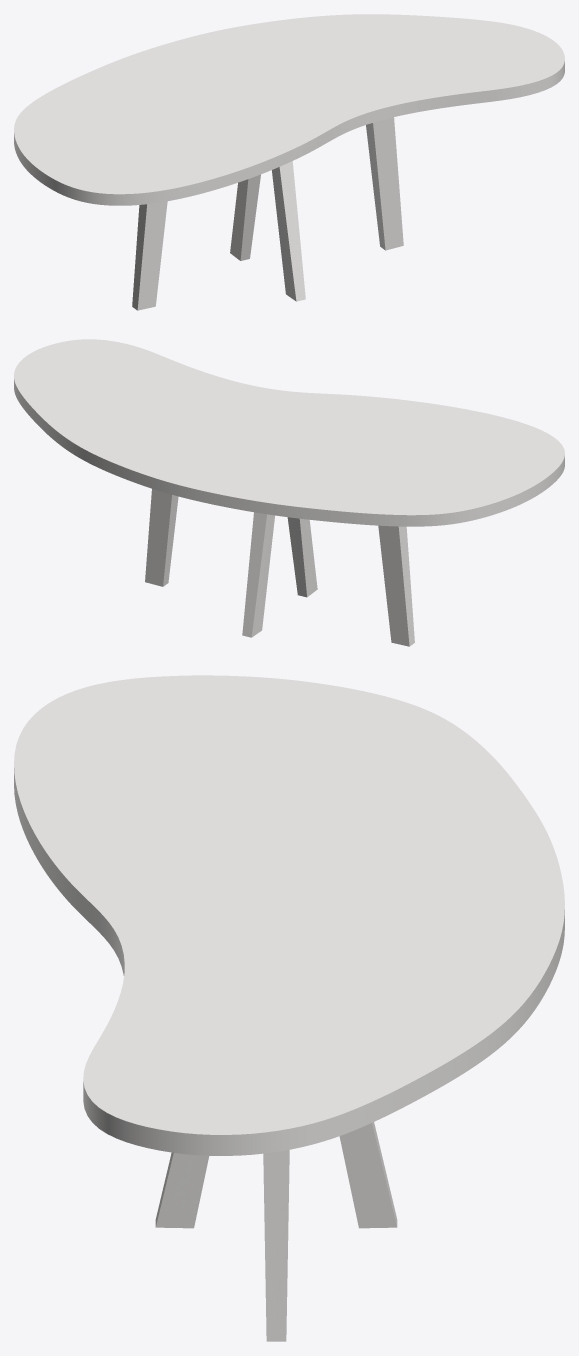
The model's file is purewhite_leaf1_standard_searwalnut.glb.
3 renders of one model, top to bottom at view 1: azimuth 30°, elevation 25°; view 2: azimuth 150°, elevation 25°; view 3: azimuth 270°, elevation 25°, orthographic. The views are drawn at different scales.
Visible parts, largest first — view 1: standard_leaf1, searwalnut; view 2: standard_leaf1, searwalnut; view 3: standard_leaf1, searwalnut.
Boxes of the visible parts, x1,y1,x2,y2 form: standard_leaf1: [14, 14, 564, 205]; searwalnut: [132, 117, 403, 310]; standard_leaf1: [14, 339, 564, 526]; searwalnut: [145, 489, 414, 646]; standard_leaf1: [14, 675, 564, 1155]; searwalnut: [155, 1122, 397, 1341].
Size of the model in its own units: 7.5 by 2.5 by 3.8.
Materials: 1 (1 with a texture image).
